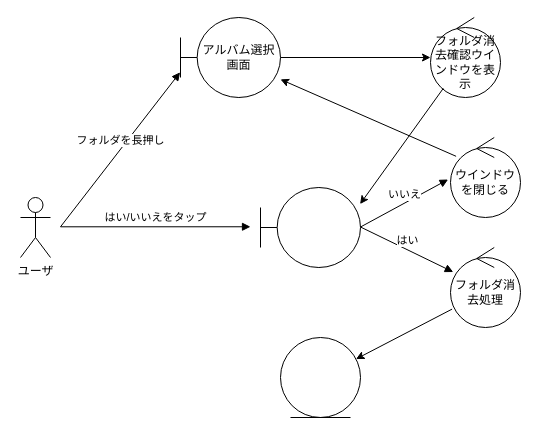
Some shapes in this 538 by 435 pixel diagram are drawn without their labels. Each missing label, with the box of its shape:
フォルダ消去確認画面: (260, 186, 360, 268)
（フォルダ削除後）アルバム選択画面: (280, 336, 360, 418)
